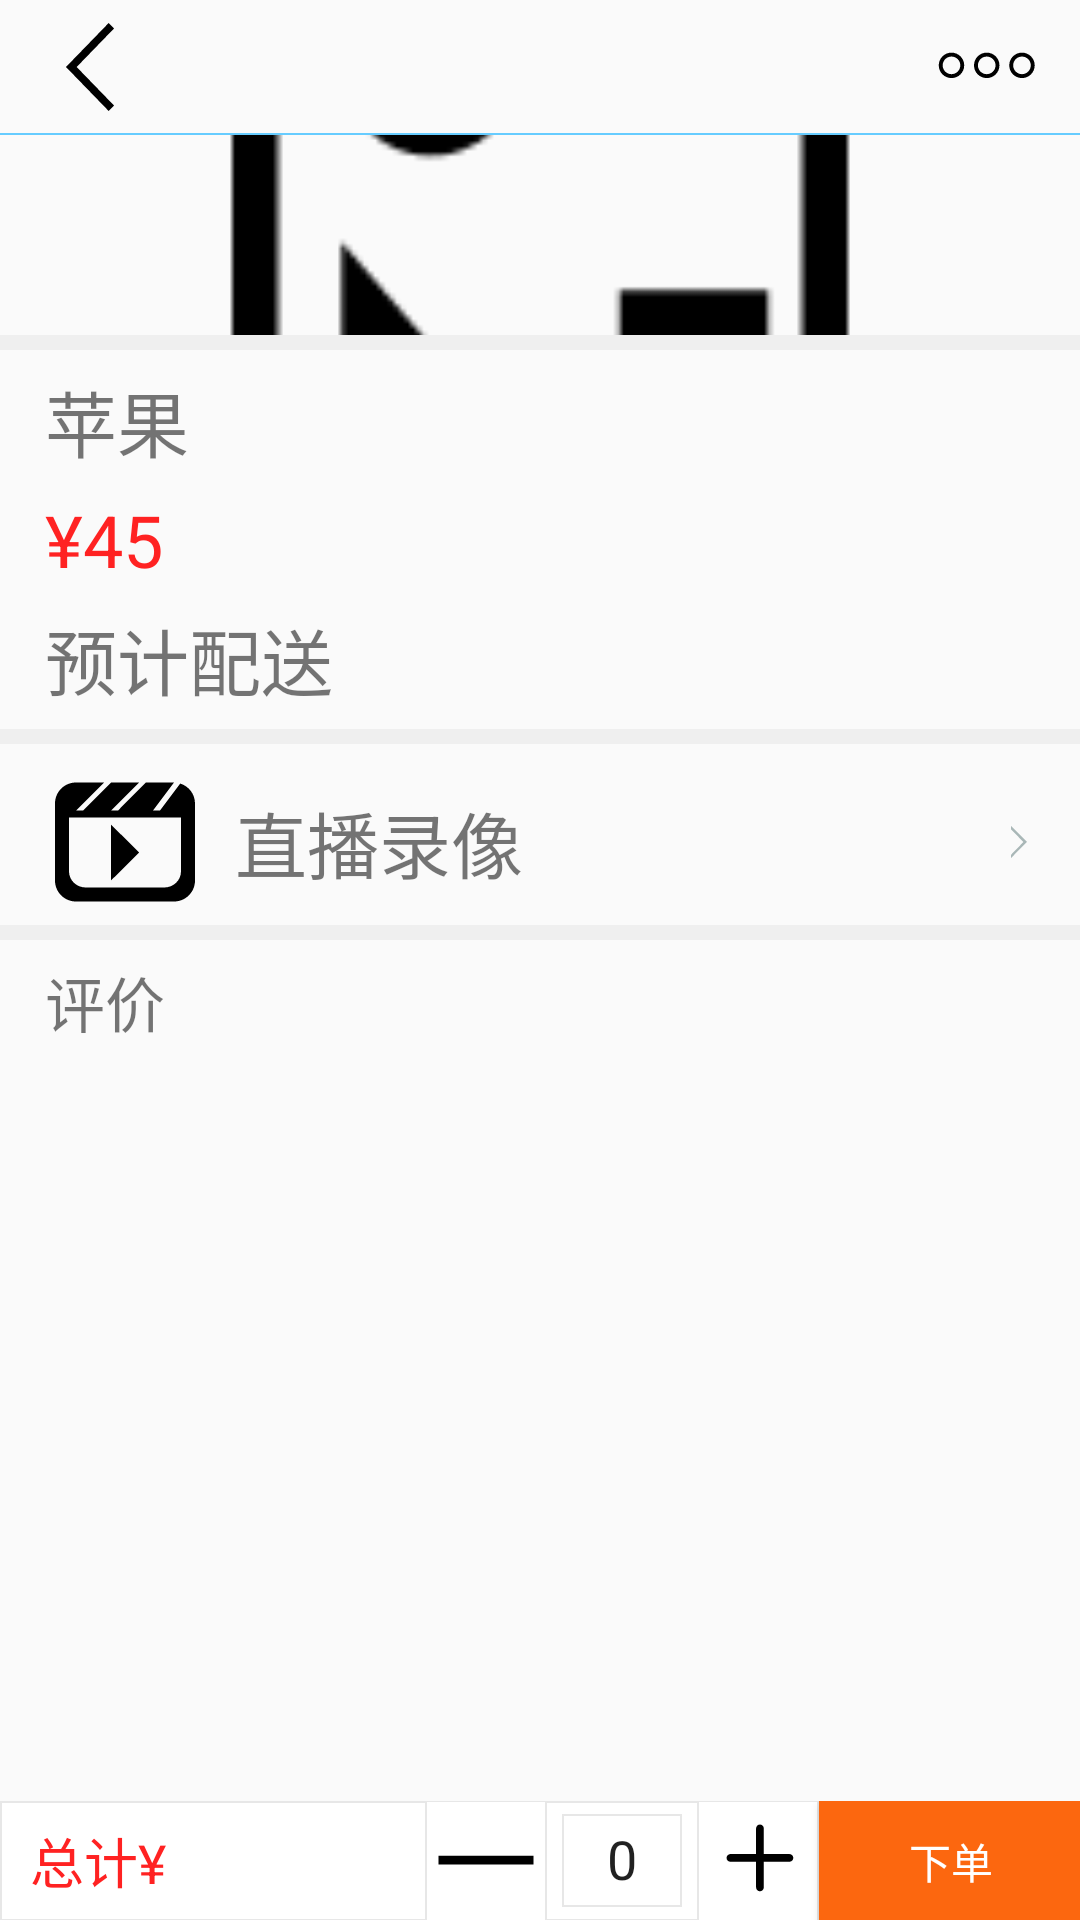

Named icons in this screenshot (1080×1920) and their centers, point (x, y):
add: point (760, 1858)
back: point (90, 67)
more: point (986, 65)
